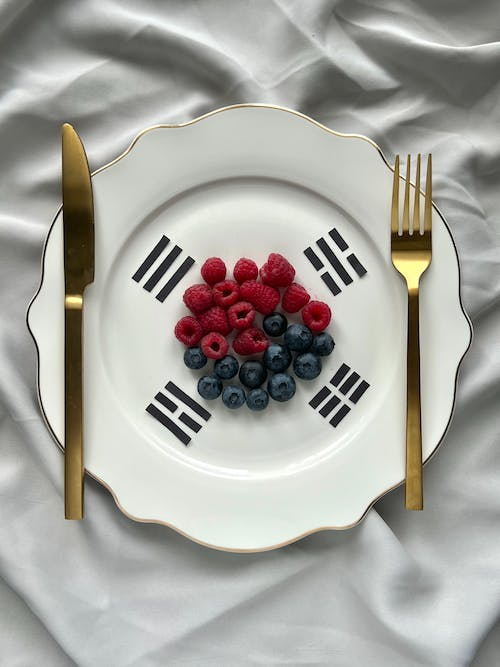knife: (58, 118, 97, 524)
